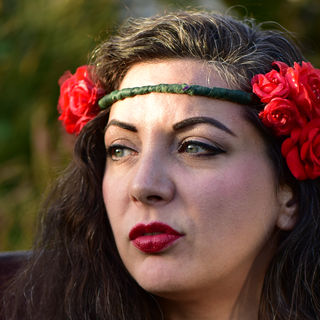eye: (172, 135, 227, 162), (103, 138, 140, 164)
